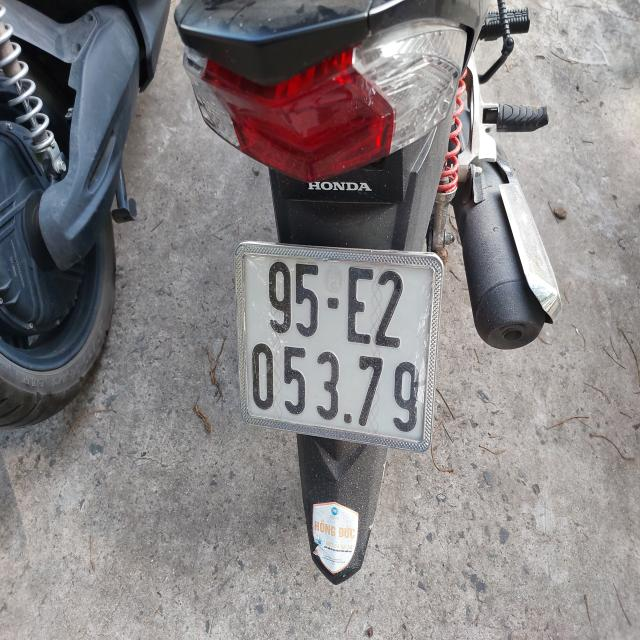0: (252, 342, 276, 409)
2: (373, 265, 407, 348)
3: (314, 350, 341, 423)
5: (278, 342, 309, 416), (294, 261, 322, 341)
7: (357, 356, 386, 428)
9: (391, 361, 423, 433), (266, 259, 294, 339)
E: (346, 264, 372, 347)
